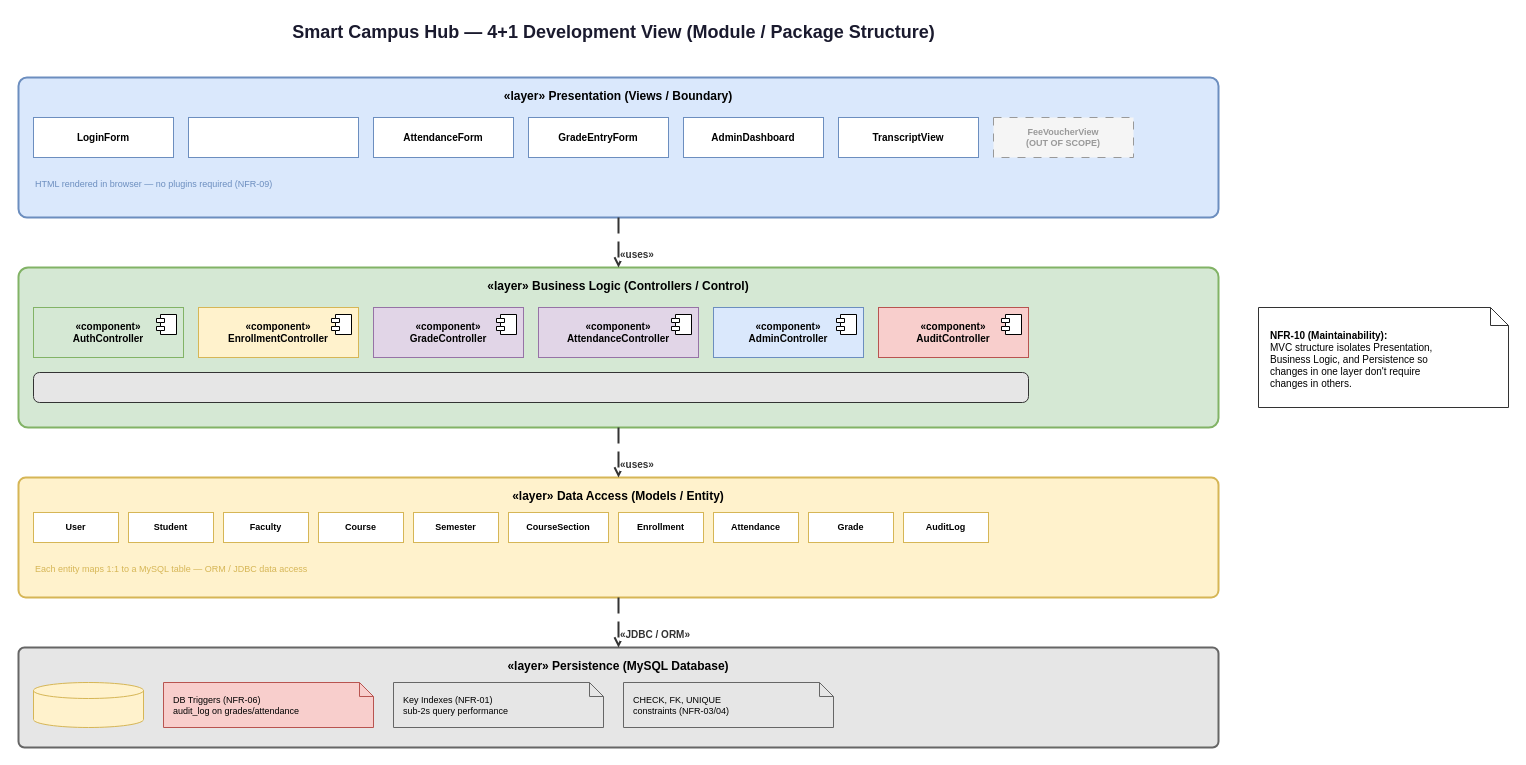
Some shapes in this 1526 by 765 pixel diagram are drawn without their labels. Here are the shapes that lost their labels. From the top down, the centre of each, then its label:
At pixel 273 137: "CourseRegistrationForm".
At pixel 530 387: "RBAC / Session Manager (cross-cutting)".
At pixel 88 705: "10 Core Tables".
